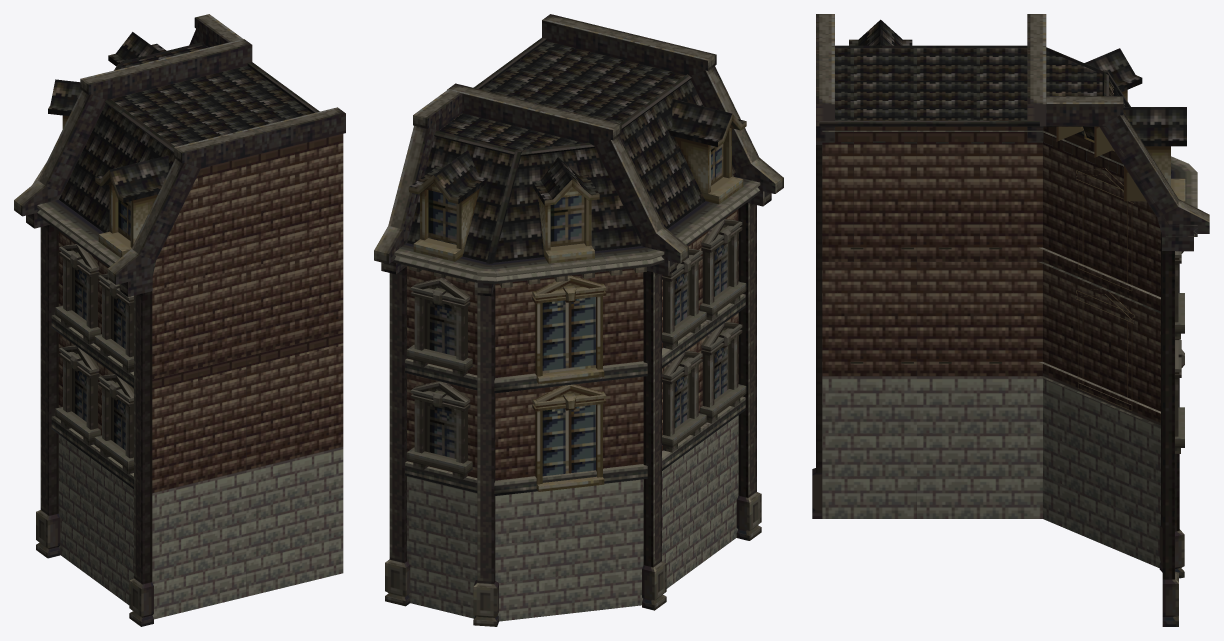
File: EnvBdgMD_City_B_Outdoor_L_D_Redwall_A.FBX
The picture shows the model from 3 angles, left to right: view 1: azimuth 30°, elevation 25°; view 2: azimuth 150°, elevation 25°; view 3: azimuth 270°, elevation 25°; orthographic projection. The views are drawn at different scales.
Parts seen in each view (by area): view 1: EnvBdgMD_City_B_Outdoor_L_D_Redwall_A; view 2: EnvBdgMD_City_B_Outdoor_L_D_Redwall_A; view 3: EnvBdgMD_City_B_Outdoor_L_D_Redwall_A.
Boxes of the visible parts, left/top/right/bottom form: EnvBdgMD_City_B_Outdoor_L_D_Redwall_A: left=14, top=14, right=345, bottom=626; EnvBdgMD_City_B_Outdoor_L_D_Redwall_A: left=374, top=14, right=783, bottom=626; EnvBdgMD_City_B_Outdoor_L_D_Redwall_A: left=812, top=14, right=1209, bottom=626.
Bounding box in the file's own units: 481 × 913 × 631.
1 material, 1 textured.
